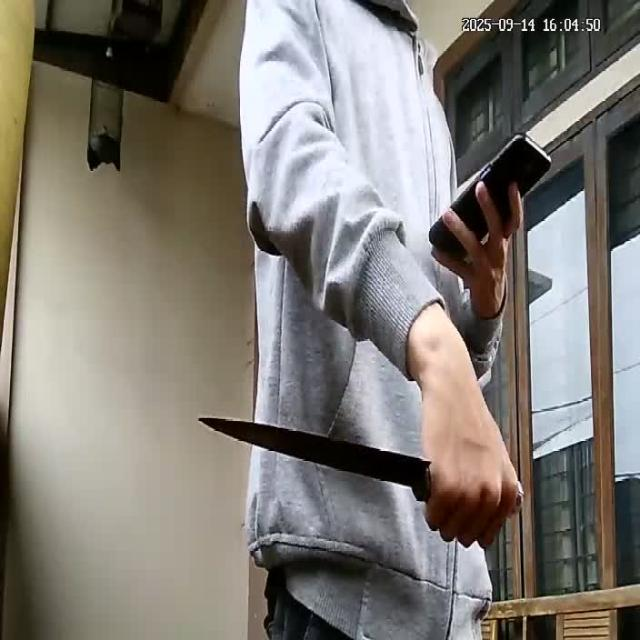senjata_tajam: (193, 413, 428, 504)
